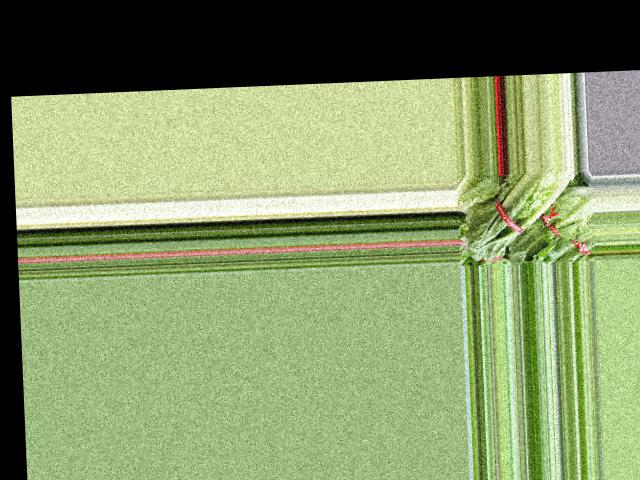lettuce: (462, 170, 576, 262)
